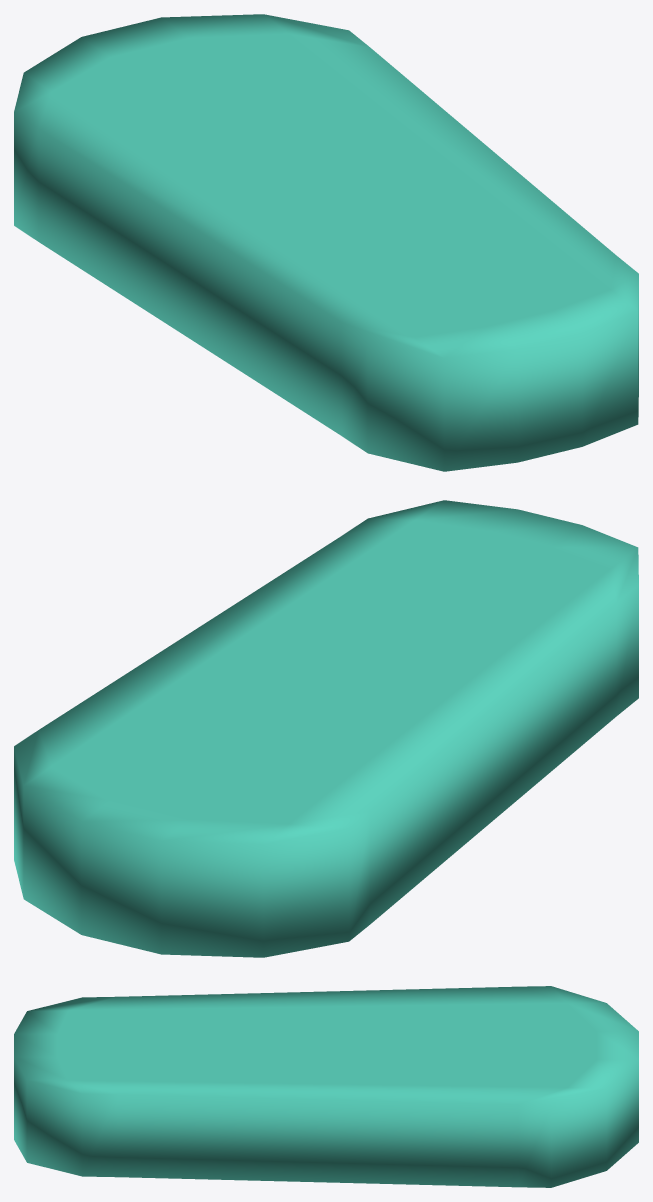
The model's file is VMP_MOD_Water_cooler_01_switch_01.fbx.
The picture shows the model from 3 angles, top to bottom: view 1: azimuth 30°, elevation 25°; view 2: azimuth 150°, elevation 25°; view 3: azimuth 270°, elevation 25°; orthographic projection. The views are drawn at different scales.
Parts seen in each view (by area): view 1: VMP_MOD_Water_cooler_01_switch_01; view 2: VMP_MOD_Water_cooler_01_switch_01; view 3: VMP_MOD_Water_cooler_01_switch_01.
Part boxes in pixels (left/top/right/bottom): VMP_MOD_Water_cooler_01_switch_01: left=14, top=14, right=638, bottom=471; VMP_MOD_Water_cooler_01_switch_01: left=14, top=500, right=638, bottom=957; VMP_MOD_Water_cooler_01_switch_01: left=14, top=986, right=638, bottom=1187.
Size of the model in its own units: 0.0262 by 0.00847 by 0.058.
